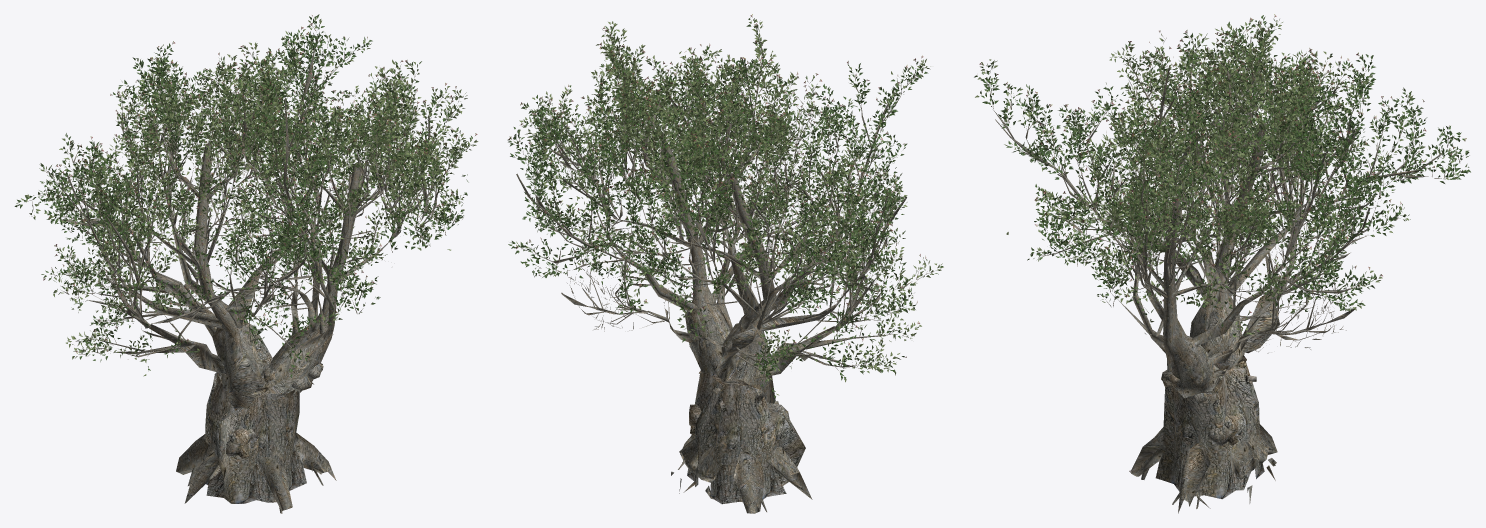
Rendered from olivier-1.glb.
3 renders of one model, left to right at view 1: azimuth 30°, elevation 25°; view 2: azimuth 150°, elevation 25°; view 3: azimuth 270°, elevation 25°, orthographic. The views are drawn at different scales.
Visible parts, largest first — view 1: Olive_tree_0; view 2: Olive_tree_0; view 3: Olive_tree_0.
Part boxes in pixels (x1,y1,x2,y2): Olive_tree_0: (14,14,478,513); Olive_tree_0: (507,14,943,513); Olive_tree_0: (974,14,1470,513).
Bounding box in the file's own units: 10.75 × 11.68 × 11.53.
Materials: 4 (4 with a texture image).
